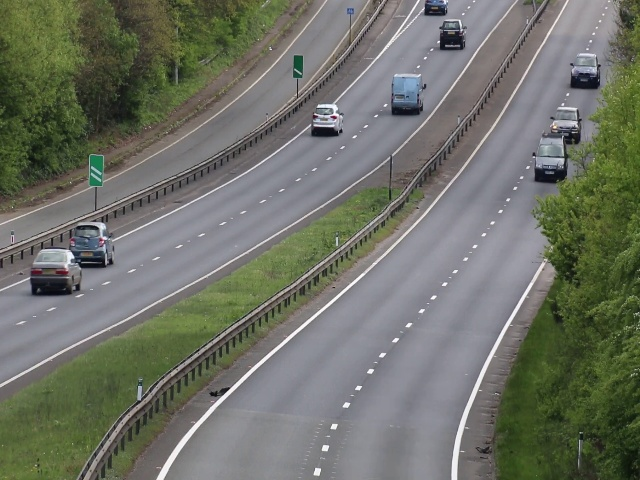car: (30, 247, 82, 294), (66, 222, 117, 267), (390, 71, 426, 118), (534, 134, 568, 183), (568, 52, 604, 91), (551, 105, 583, 143), (311, 101, 344, 137), (439, 18, 468, 51), (420, 1, 450, 16)
